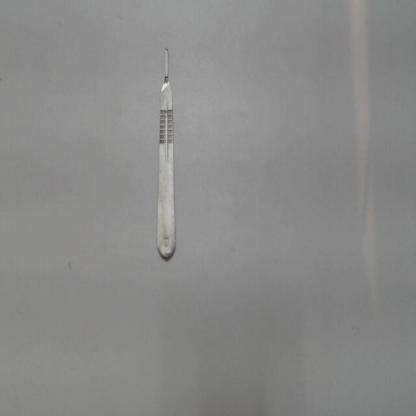No.3 BP Handle: (151, 37, 175, 270)
